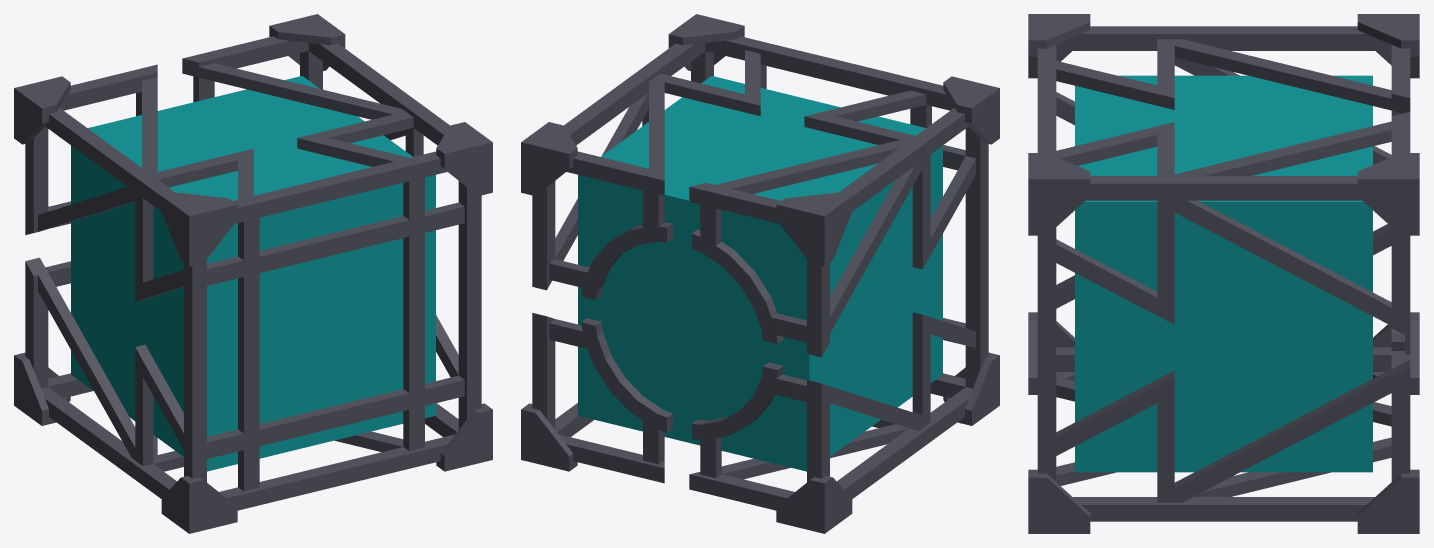
The model's file is cyan-source.glb.
The picture shows the model from 3 angles, left to right: view 1: azimuth 30°, elevation 25°; view 2: azimuth 150°, elevation 25°; view 3: azimuth 270°, elevation 25°; orthographic projection. The views are drawn at different scales.
Parts seen in each view (by area): view 1: laser box; view 2: laser box; view 3: laser box.
Boxes of the visible parts, x1,y1,x2,y2 form: laser box: (14,14,492,533); laser box: (521,14,999,533); laser box: (1028,14,1419,533).
Bounding box in the file's own units: 1 × 1 × 1.
